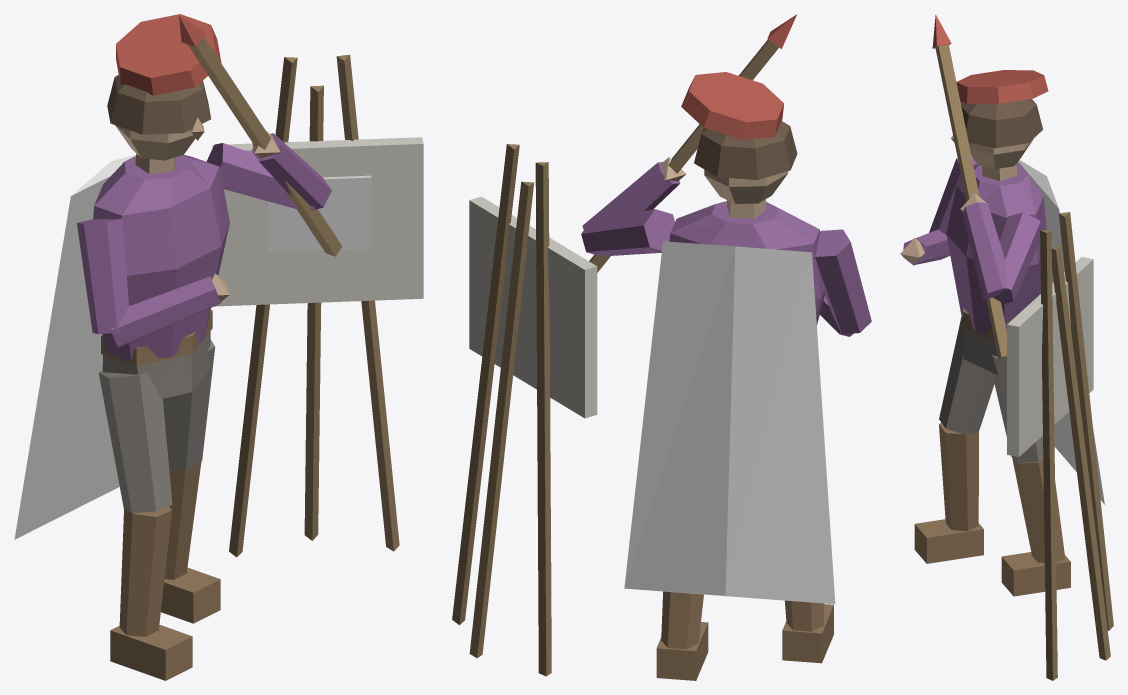
The model's file is artist.glb.
The picture shows the model from 3 angles, left to right: view 1: azimuth 30°, elevation 25°; view 2: azimuth 150°, elevation 25°; view 3: azimuth 270°, elevation 25°; orthographic projection. The views are drawn at different scales.
Visible parts, largest first — view 1: LOD0; view 2: LOD0; view 3: LOD0.
Part boxes in pixels (left/top/right/bottom): LOD0: left=14, top=14, right=423, bottom=680; LOD0: left=452, top=14, right=871, bottom=680; LOD0: left=900, top=14, right=1113, bottom=680.
Size of what is drawn, in the model's own units: 0.6935 by 1.1 by 0.3867.
